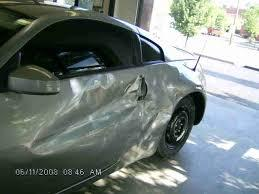doorouter-dent: (26, 65, 141, 187), (143, 65, 184, 140)
